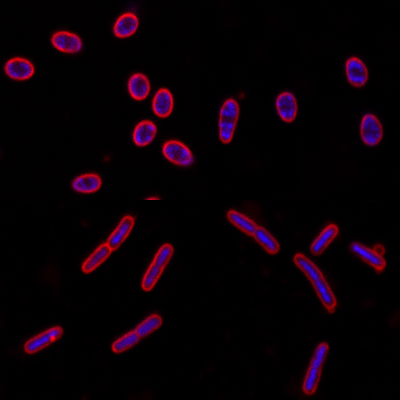Mecillinam: (217, 99, 241, 146), (359, 113, 384, 147), (342, 56, 369, 87), (3, 56, 35, 81), (274, 91, 298, 123), (152, 85, 175, 118), (112, 12, 140, 39), (131, 120, 157, 147), (127, 72, 151, 101)
Oblique: (160, 138, 194, 166), (50, 30, 83, 54), (69, 171, 102, 193)
Rifampicin: (79, 214, 135, 275), (291, 251, 337, 312), (225, 208, 280, 255), (110, 312, 162, 355), (300, 340, 332, 396), (140, 243, 174, 292), (22, 325, 65, 357), (347, 240, 387, 271), (308, 222, 339, 256)
